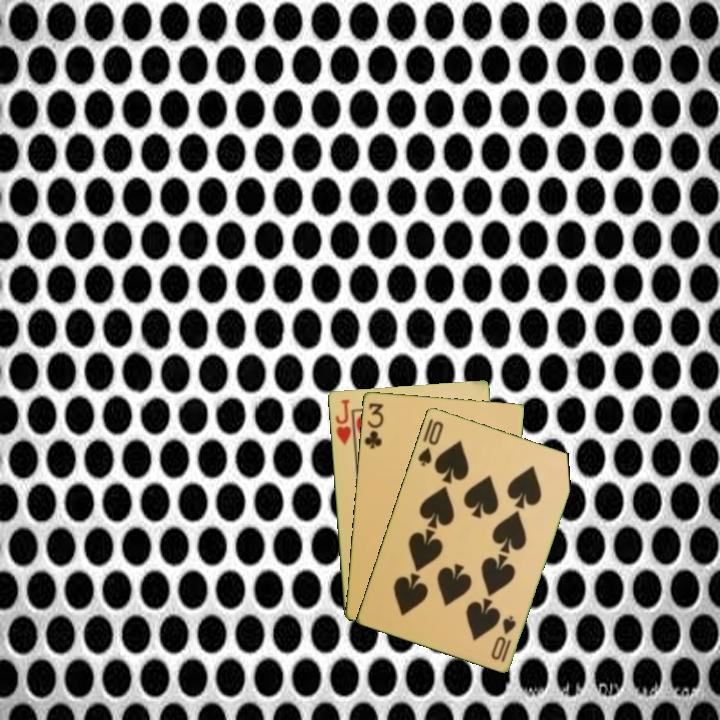10s: (487, 611, 519, 665), (414, 417, 446, 469)
3c: (360, 399, 386, 451)
Jh: (332, 395, 358, 451)
